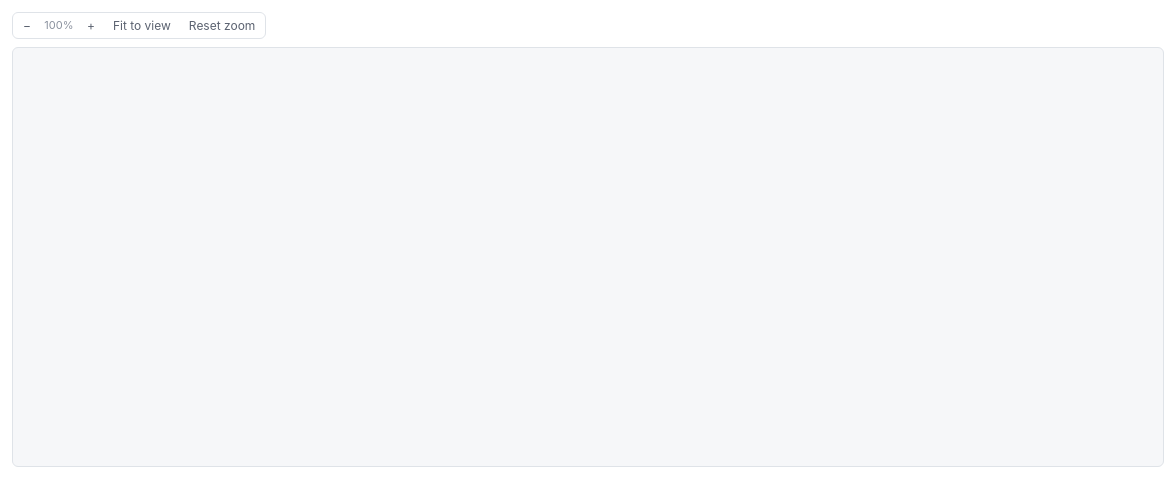
Test: MermaidBlock › zooms in and out
The image size is (1164, 484).
Click the button named "Zoom in".
click(91, 26)  # box top-left (79, 15), bottom-right (103, 36)
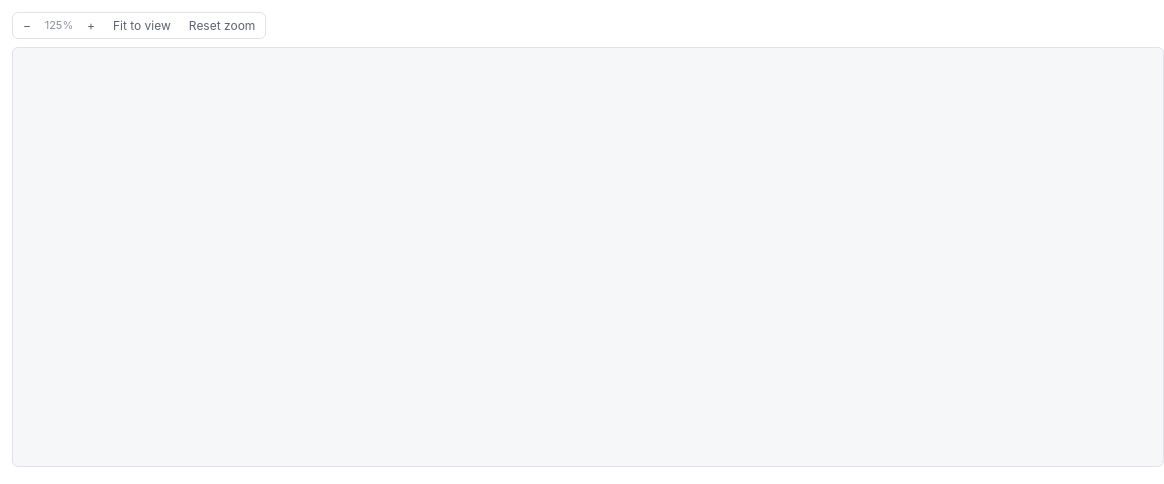
Expected: the text "125%" is shown, top-left (45, 18), bottom-right (73, 32)
Click the button named "Zoom out".
click(27, 26)  # box top-left (15, 15), bottom-right (39, 36)
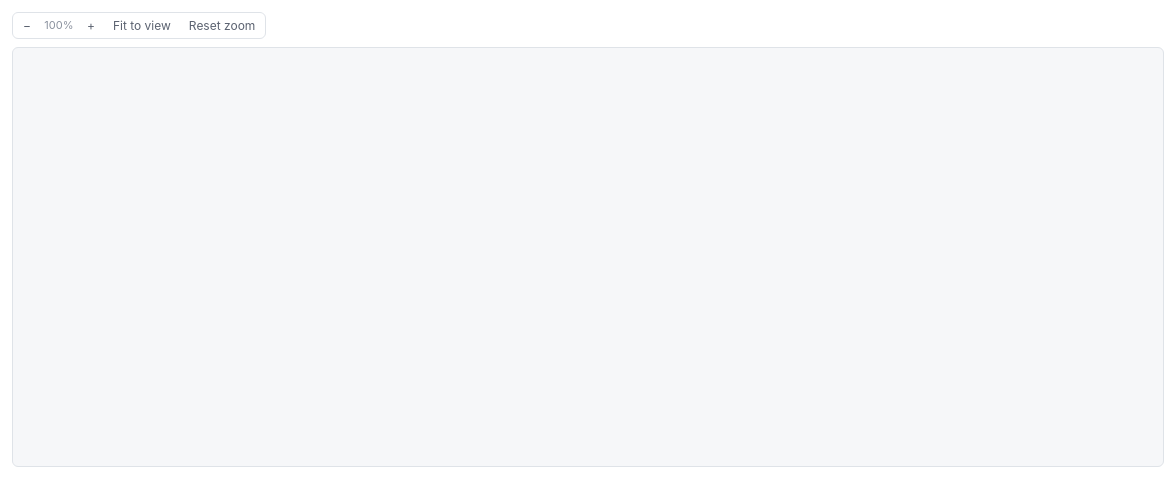
Click the button named "Zoom out".
click(27, 26)  # box top-left (15, 15), bottom-right (39, 36)
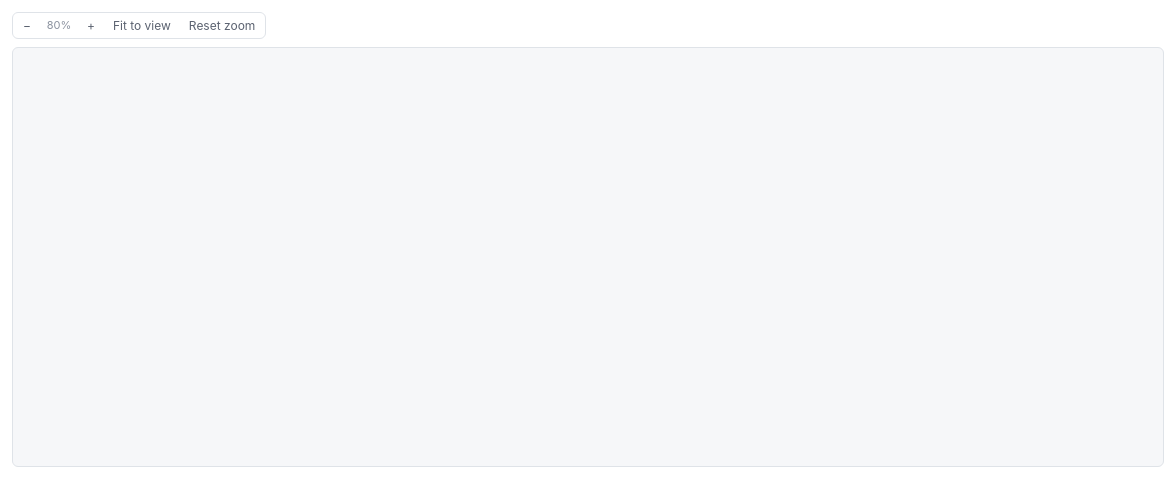
Expected: the text "80%" is shown, top-left (47, 18), bottom-right (71, 32)
